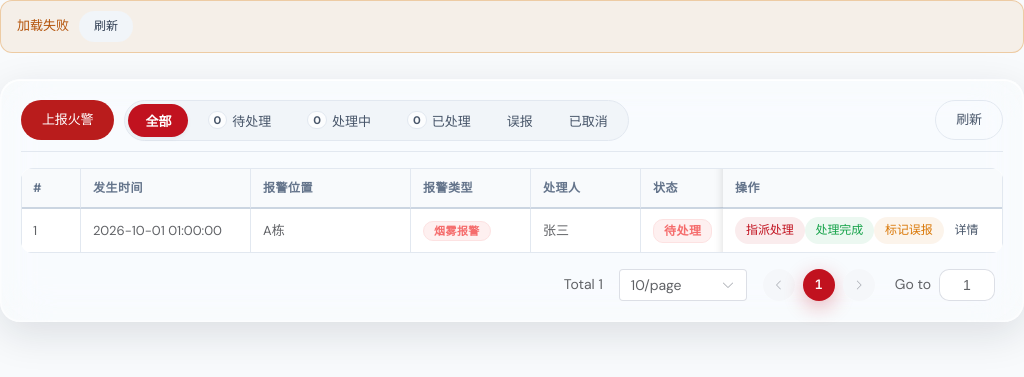
Scenario: AlarmView 统计卡与分段计数（loadStats 口径） › 统计失败块里的刷新：真的重发统计请求，成功后四张卡回来
Expected: the element with class "stats-failed" shows "加载失败", x1=17 y1=17 x2=69 y2=34
Click the button "刷新" next to "加载失败" at (106,26), box x1=79 y1=11 x2=133 y2=42
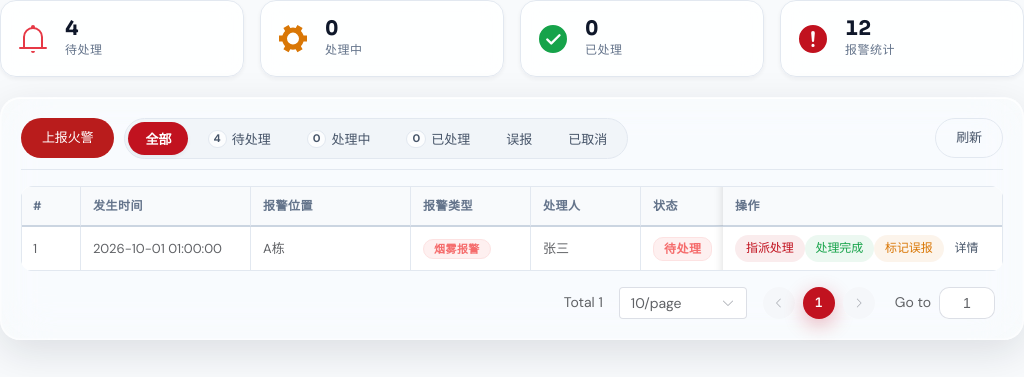
Expected: the element with class "stats-failed" is gone
